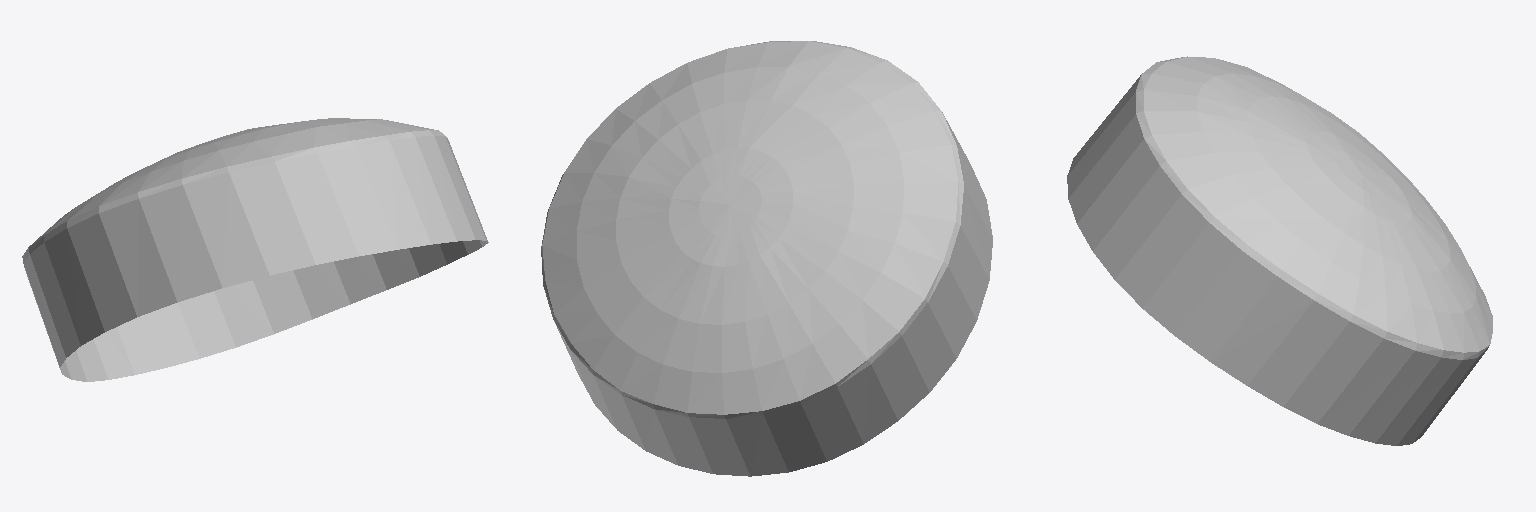
The model's file is R_button_A.obj.
The picture shows the model from 3 angles: view 1: azimuth 30°, elevation 25°; view 2: azimuth 150°, elevation 25°; view 3: azimuth 270°, elevation 25°; orthographic projection.
Visible parts, largest first — view 1: R_button_A Ctrl_R; view 2: R_button_A Ctrl_R; view 3: R_button_A Ctrl_R.
Boxes of the visible parts, x1=… form: R_button_A Ctrl_R: x1=22, y1=118, x2=488, y2=381; R_button_A Ctrl_R: x1=541, y1=41, x2=992, y2=476; R_button_A Ctrl_R: x1=1067, y1=56, x2=1492, y2=445.
Bounding box in the file's own units: 0.0106 × 0.0083 × 0.0099.